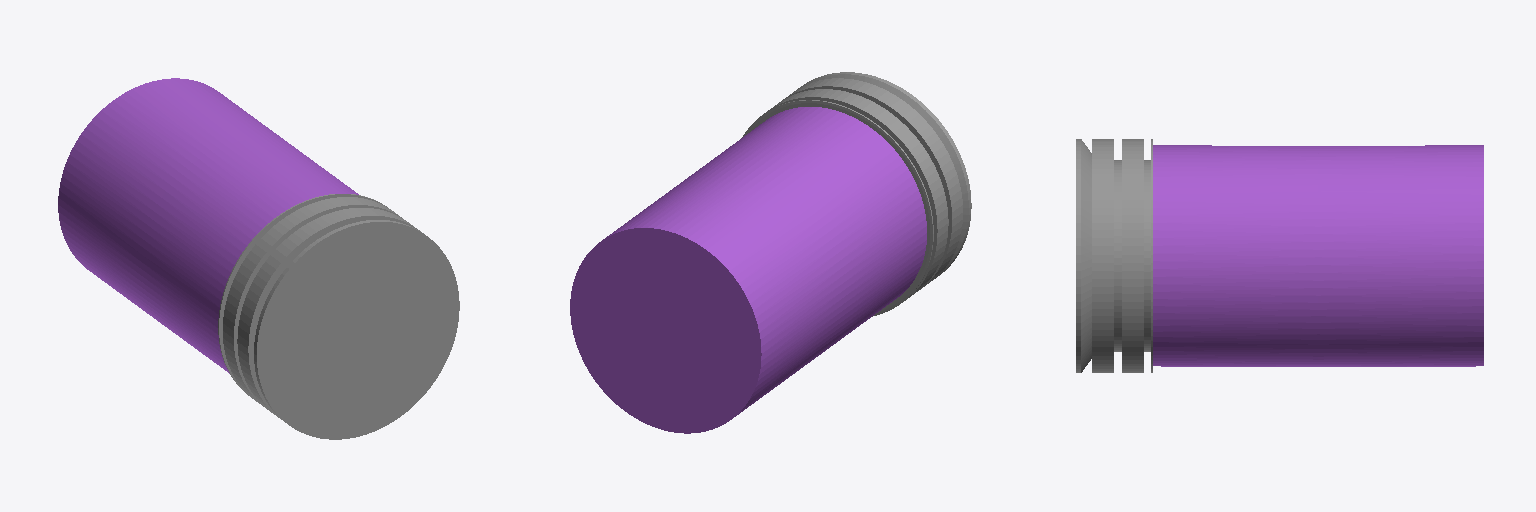
Rendered from Jar.obj.
3 renders of one model, left to right at view 1: azimuth 30°, elevation 25°; view 2: azimuth 150°, elevation 25°; view 3: azimuth 270°, elevation 25°, orthographic.
Visible parts, largest first — view 1: Body1, Body1:1; view 2: Body1:1, Body1; view 3: Body1:1, Body1.
Boxes of the visible parts, box(x1,y1,x2,y2) form: Body1: box(218, 194, 459, 439); Body1:1: box(58, 78, 358, 373); Body1:1: box(570, 107, 926, 433); Body1: box(742, 72, 971, 316); Body1:1: box(1153, 145, 1483, 366); Body1: box(1076, 139, 1152, 372).
Bounding box in the file's own units: 31.79 × 31.8 × 55.44.